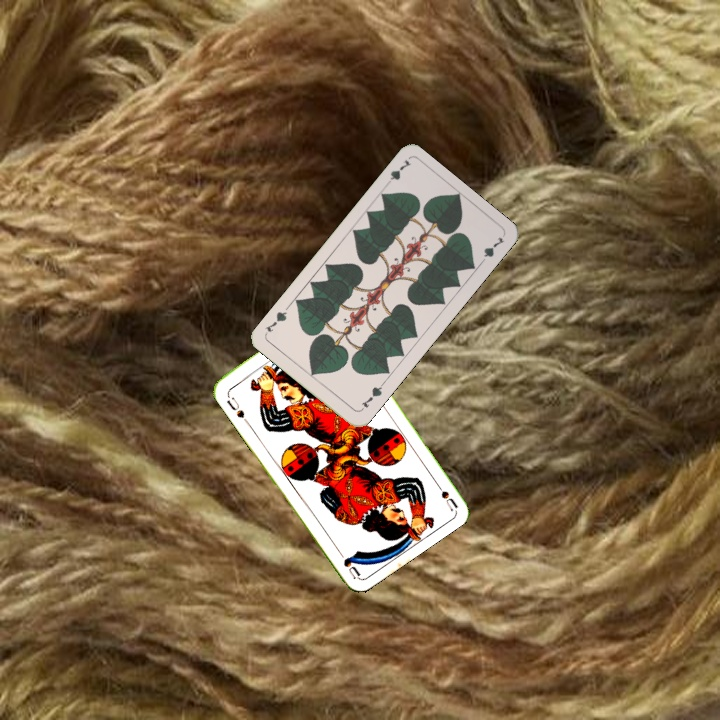G7: (380, 155, 414, 190), (356, 379, 386, 414)
SU: (430, 475, 460, 512), (223, 389, 247, 420)
